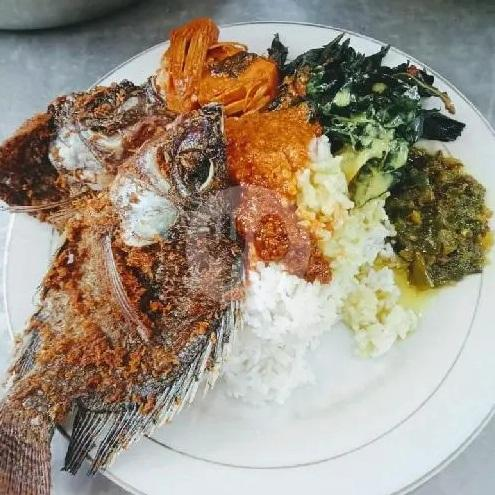buah_sayur_lainnya: (313, 54, 404, 127), (399, 168, 466, 260)
daging: (83, 217, 163, 397), (34, 117, 109, 189)
makanan_berpati: (261, 143, 328, 334)
